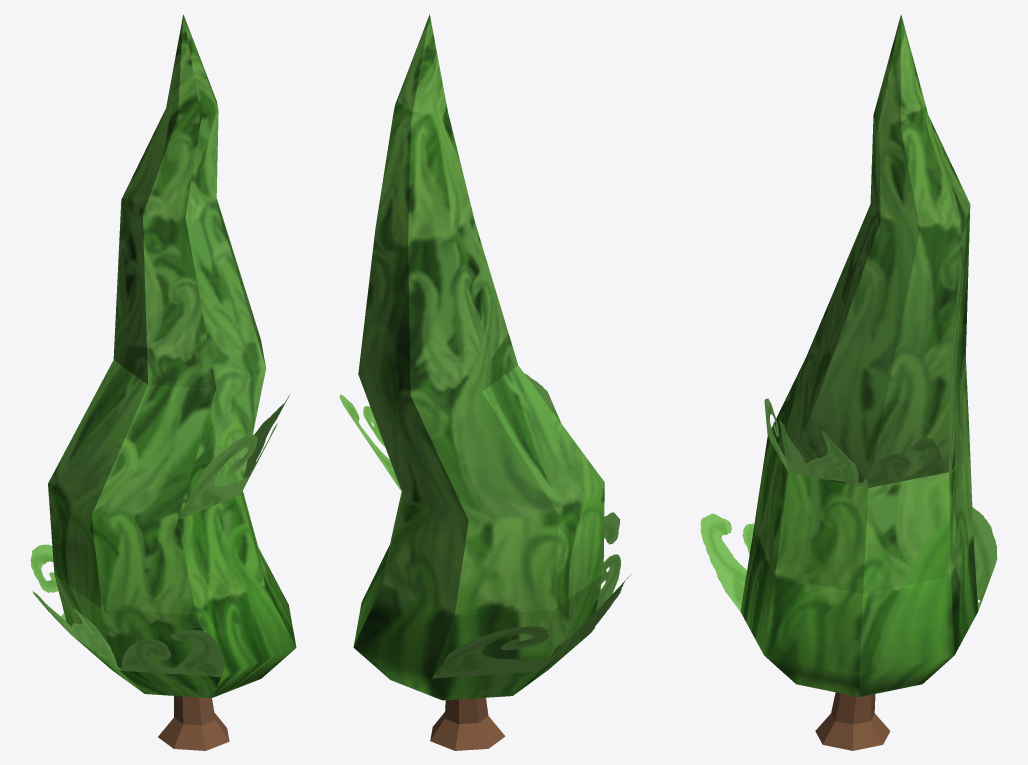
The model's file is twisttree.fbx.
The picture shows the model from 3 angles, left to right: view 1: azimuth 30°, elevation 25°; view 2: azimuth 150°, elevation 25°; view 3: azimuth 270°, elevation 25°; orthographic projection. The views are drawn at different scales.
Visible parts, largest first — view 1: pCylinder7; view 2: pCylinder7; view 3: pCylinder7.
Boxes of the visible parts, x1,y1,x2,y2 form: pCylinder7: [30, 14, 296, 750]; pCylinder7: [339, 14, 631, 750]; pCylinder7: [700, 14, 997, 750].
Size of the model in its own units: 21.97 by 57.83 by 23.94.
Materials: 1 (1 with a texture image).
